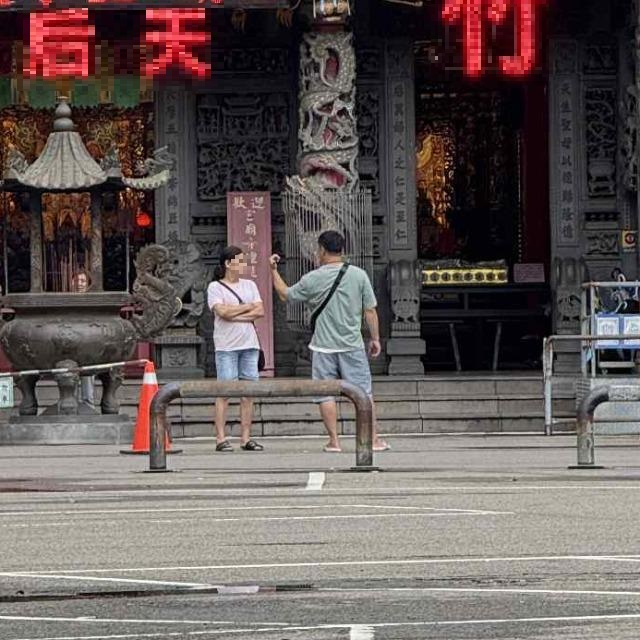NoVest: (304, 261, 377, 356), (207, 277, 262, 353)
